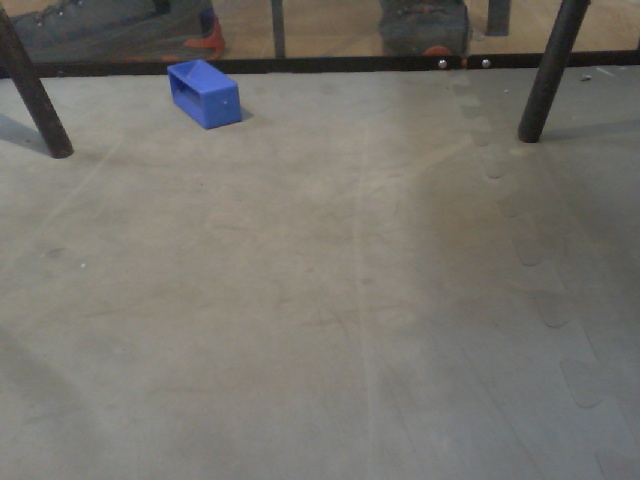BlueSample: (165, 55, 247, 132)
